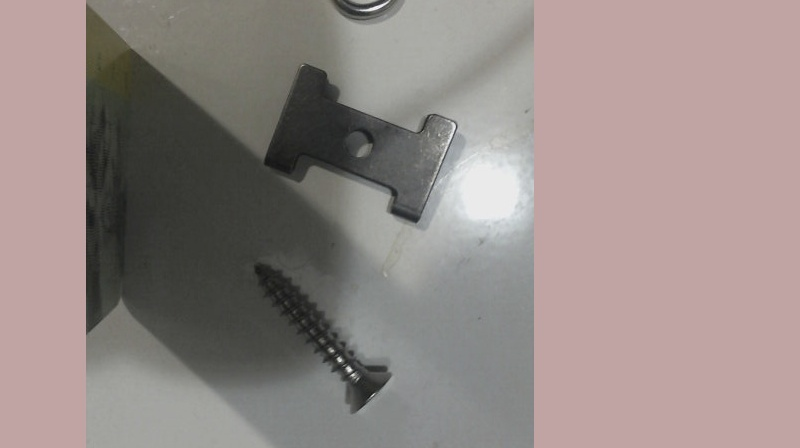O001: (242, 0, 405, 23)
O002: (260, 59, 459, 229)
S001: (247, 255, 397, 421)
